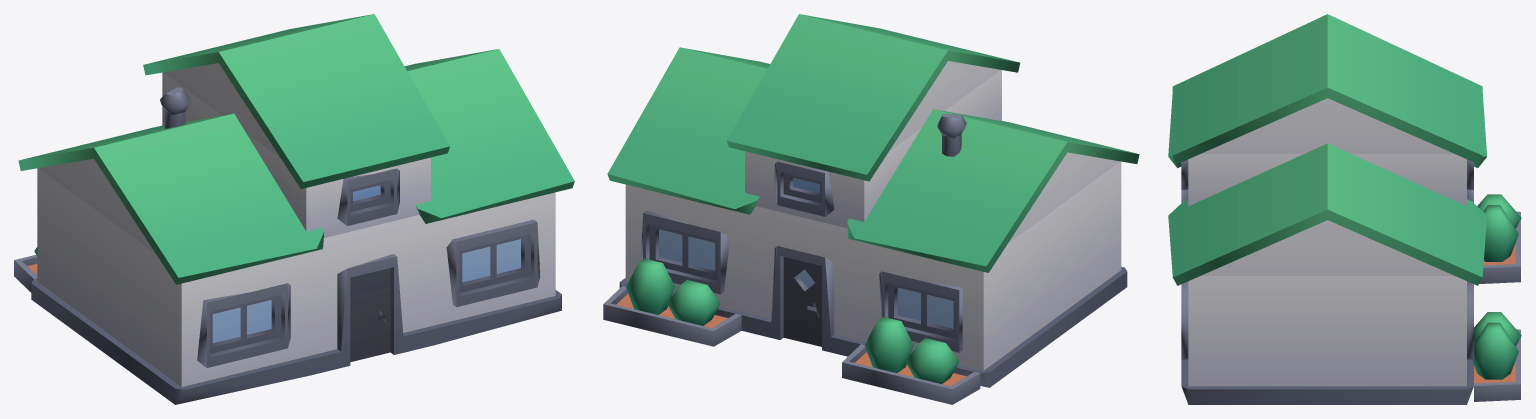
Rendered from 054_city-kit-suburban_building-type-a_card.glb.
The picture shows the model from 3 angles, left to right: view 1: azimuth 30°, elevation 25°; view 2: azimuth 150°, elevation 25°; view 3: azimuth 270°, elevation 25°; orthographic projection. The views are drawn at different scales.
Visible parts, largest first — view 1: building-type-a; view 2: building-type-a; view 3: building-type-a.
Boxes of the visible parts, bbox=[...] form: building-type-a: bbox=[14, 14, 574, 404]; building-type-a: bbox=[603, 14, 1139, 404]; building-type-a: bbox=[1168, 14, 1521, 404].
Bounding box in the file's own units: 1.3 × 0.8336 × 1.02.
Materials: 1 (1 with a texture image).
